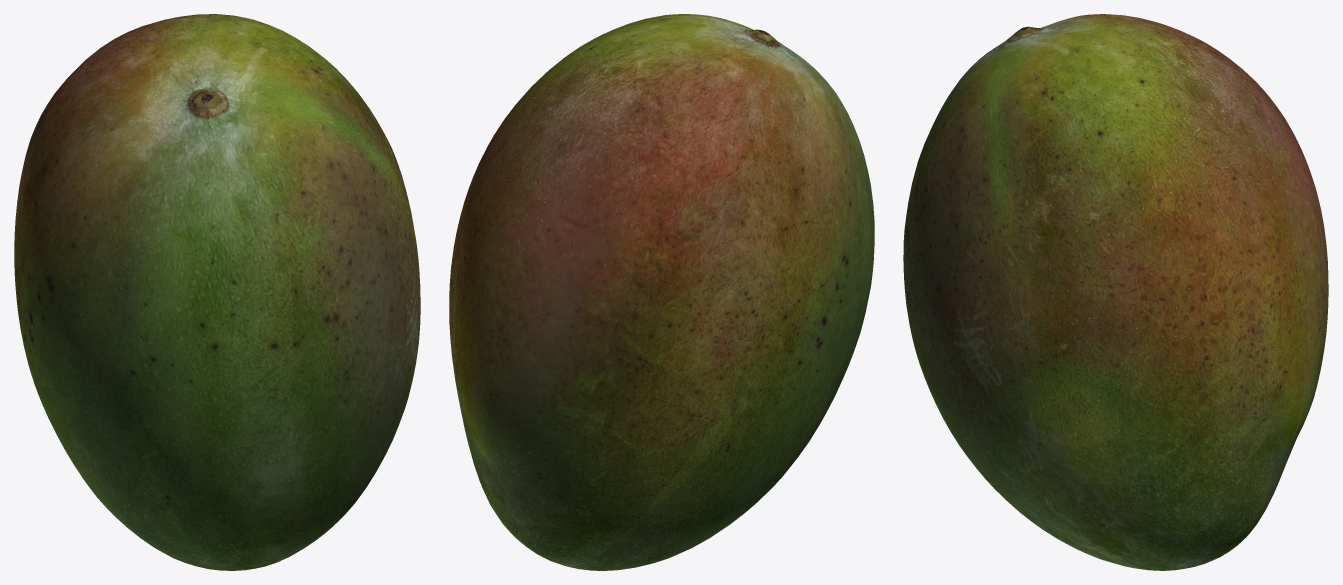
Rendered from mango.glb.
The picture shows the model from 3 angles, left to right: view 1: azimuth 30°, elevation 25°; view 2: azimuth 150°, elevation 25°; view 3: azimuth 270°, elevation 25°; orthographic projection. The views are drawn at different scales.
Visible parts, largest first — view 1: Mango_LowPoly_1; view 2: Mango_LowPoly_1; view 3: Mango_LowPoly_1.
Boxes of the visible parts, x1,y1,x2,y2 form: Mango_LowPoly_1: (14, 14, 420, 570); Mango_LowPoly_1: (449, 14, 874, 570); Mango_LowPoly_1: (903, 14, 1328, 570).
Size of the model in its own units: 0.0838 by 0.1193 by 0.0906.
Materials: 1 (1 with a texture image).
